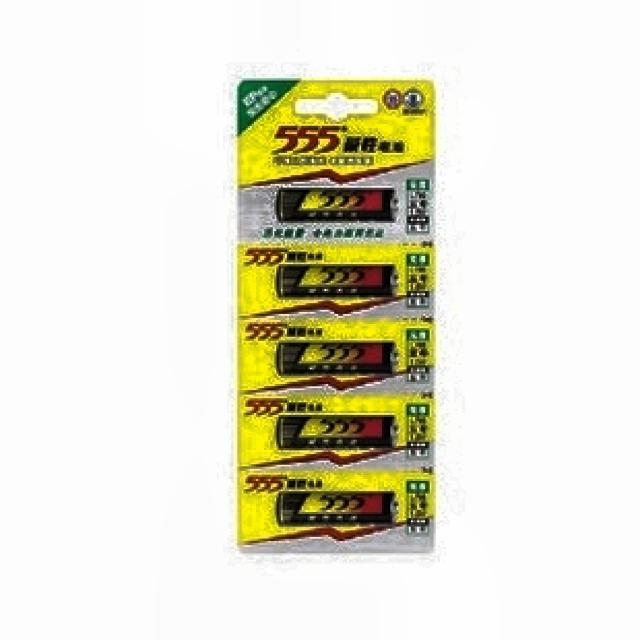Non-Valuable Waste - Batteries: (237, 80, 434, 551)
